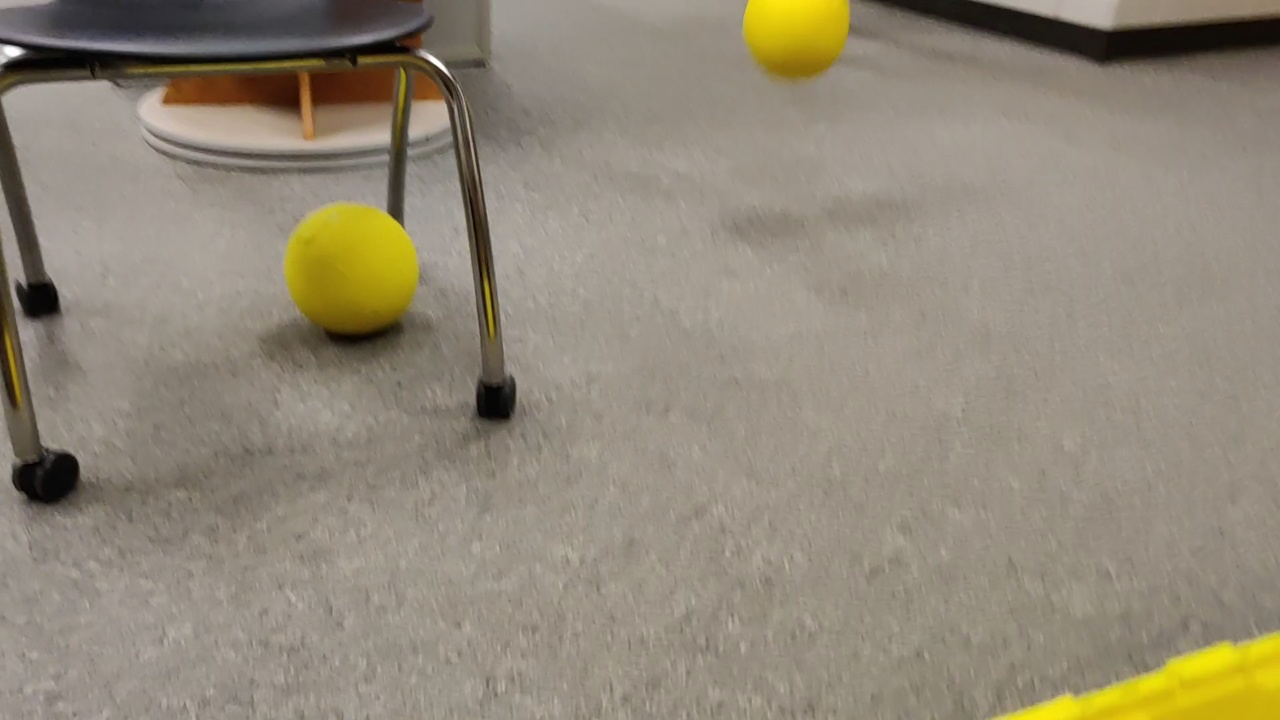Ball: (278, 202, 433, 344), (738, 1, 844, 74)
